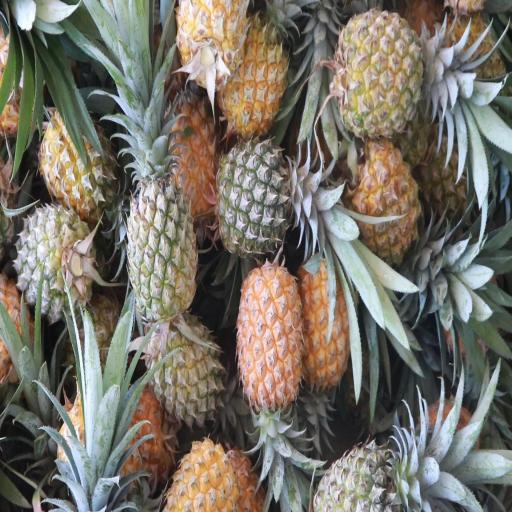------------------------------: (127, 149, 195, 313), (338, 15, 430, 134), (38, 104, 112, 214), (149, 318, 224, 422)
Pineapple - v8 v1: (238, 260, 308, 406), (218, 9, 292, 125), (348, 137, 418, 252), (161, 86, 223, 212), (301, 256, 357, 387), (176, 0, 245, 82), (169, 438, 242, 512)
